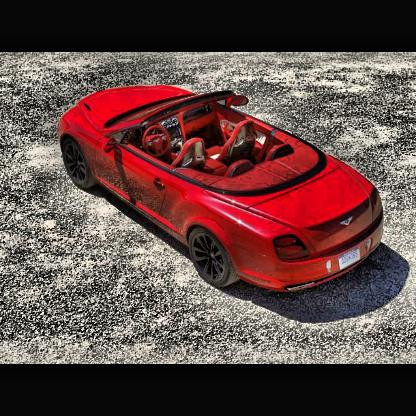Bentley Continental Supersports Conv- Convertible 2012: (57, 84, 386, 296)
